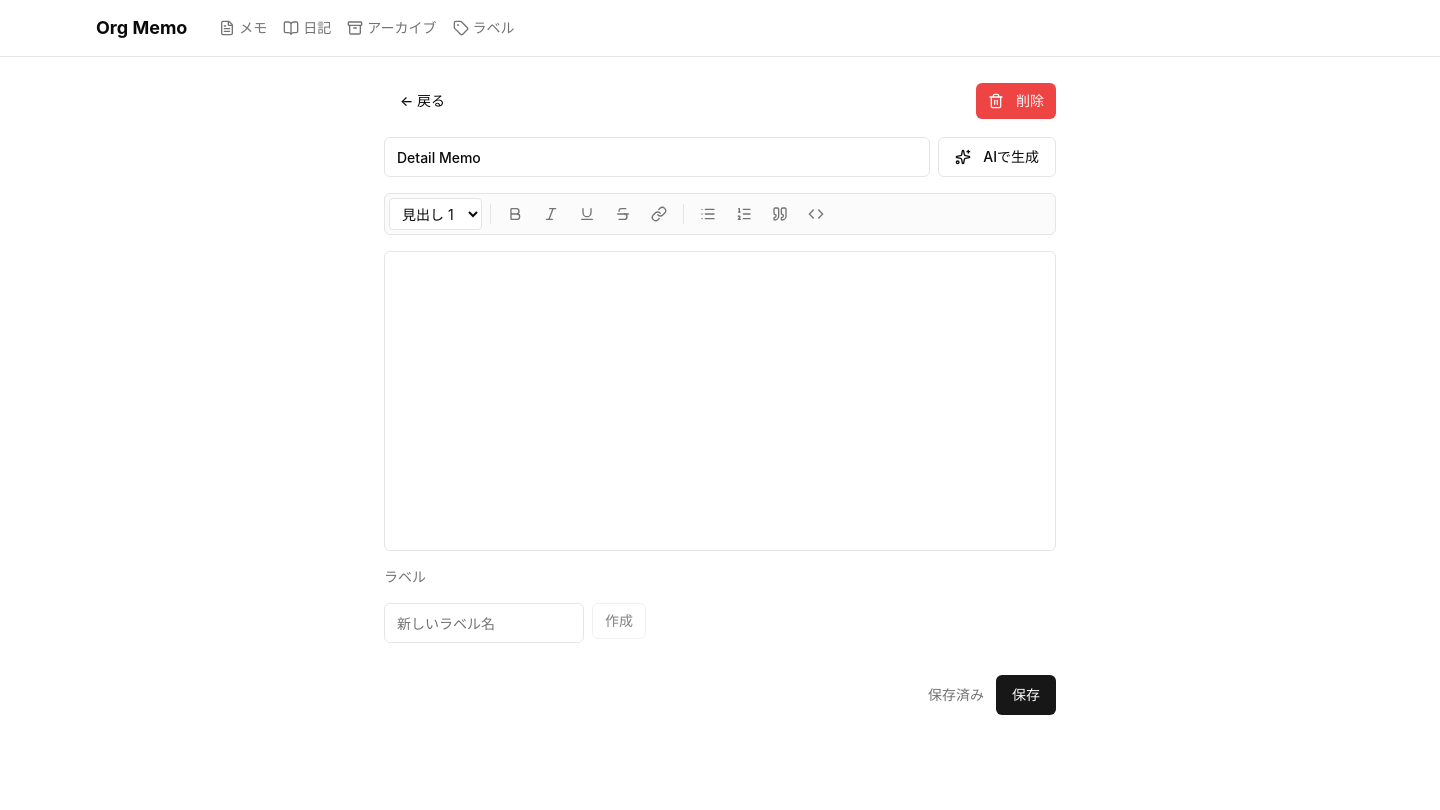
Test: メモ詳細画面 › 保存に失敗したときは「← 戻る」で遷移せず、編集画面に留まる
Replace the text in the field showing "Detail Memo" with "Renamed" at [657, 157], box [384,137,930,177]
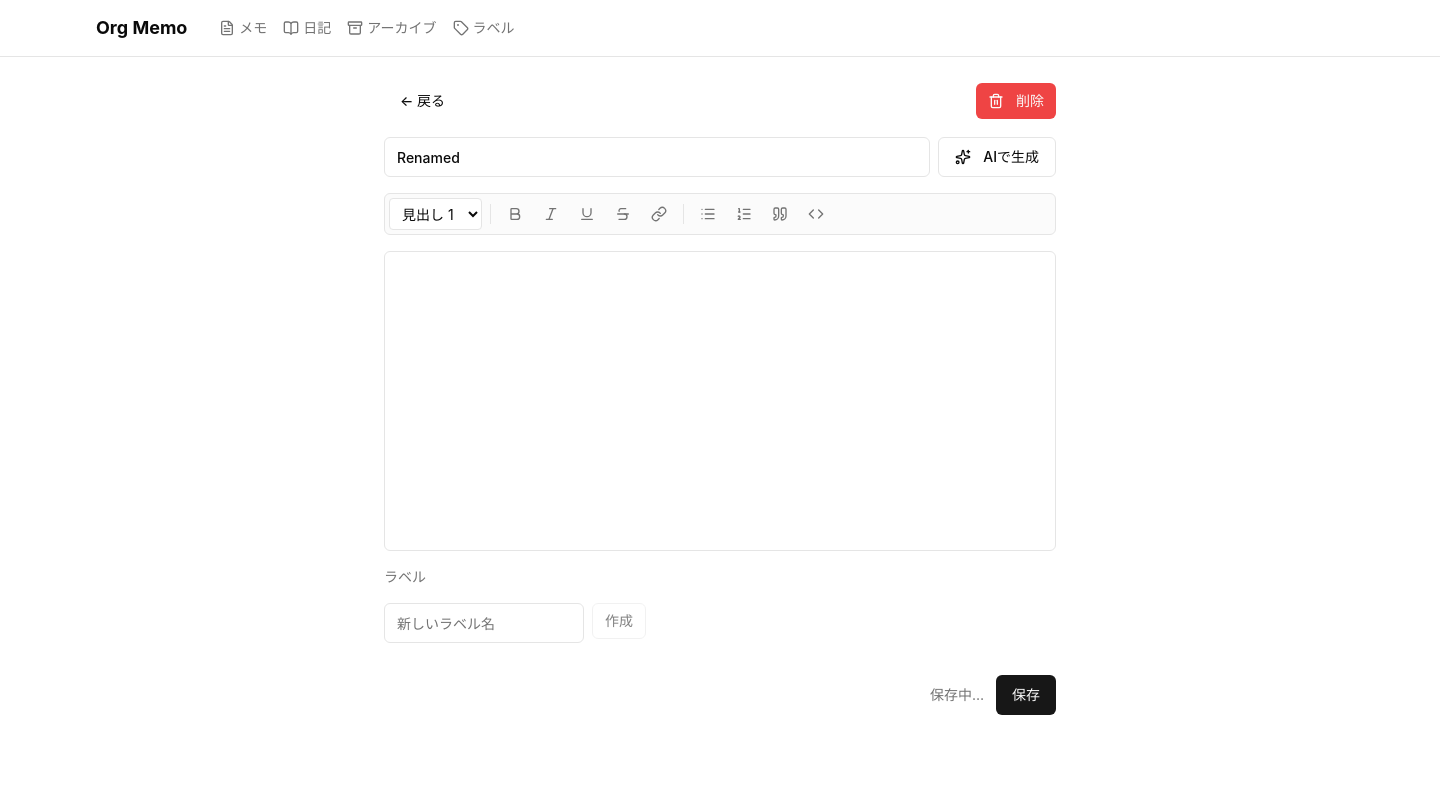
Click the button "← 戻る" at [423, 101], box [384,81,461,121]
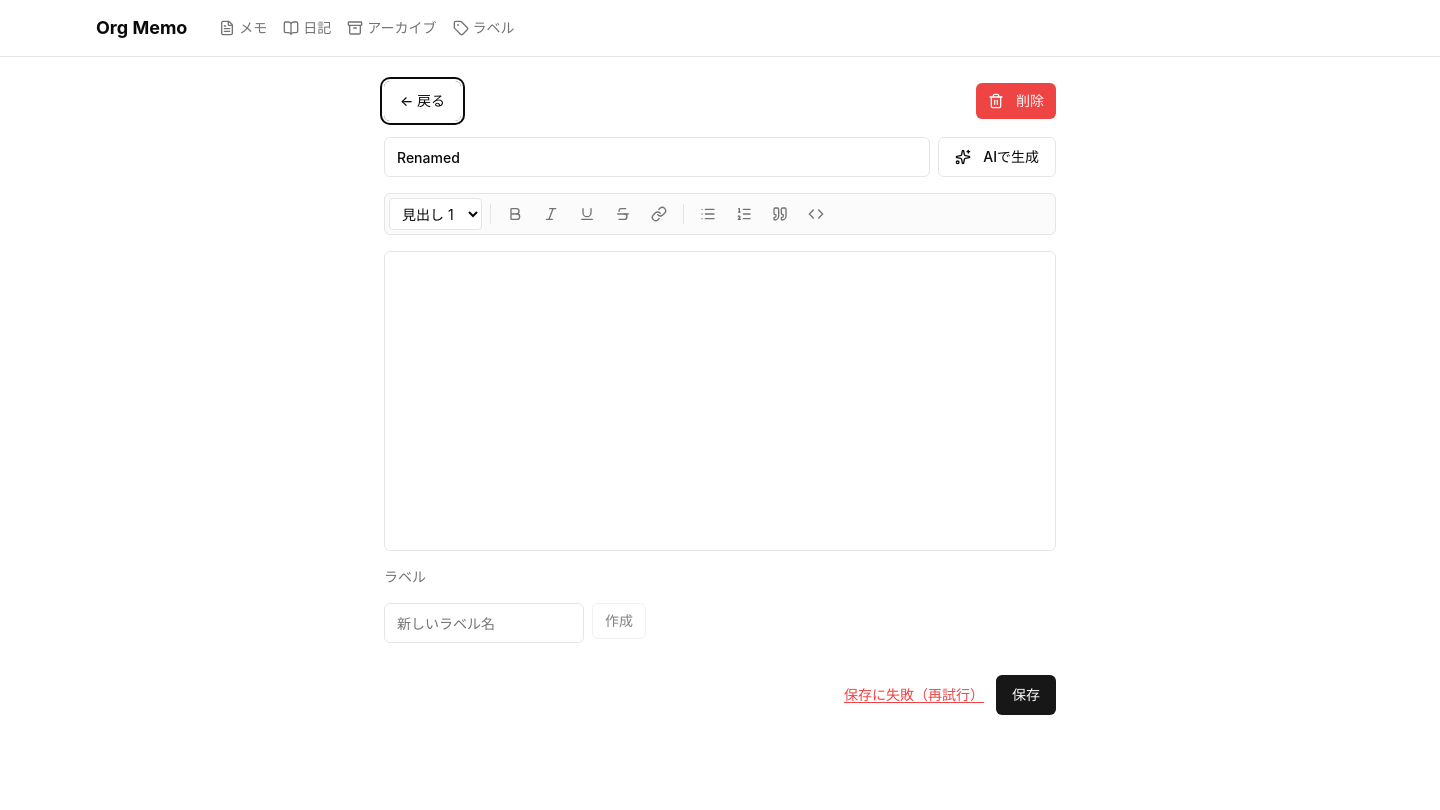
Result: the button "保存に失敗（再試行）" is shown at [844,685,984,705]
